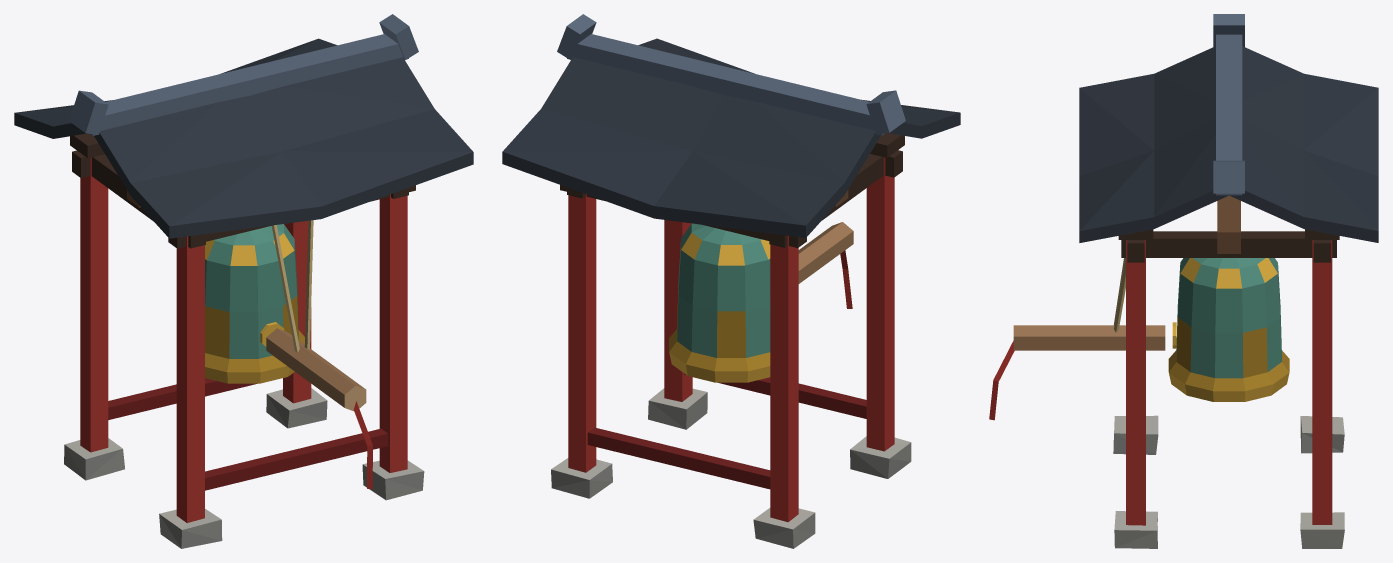
The model's file is temple_bell.fbx.
The picture shows the model from 3 angles, left to right: view 1: azimuth 30°, elevation 25°; view 2: azimuth 150°, elevation 25°; view 3: azimuth 270°, elevation 25°; orthographic projection. The views are drawn at different scales.
Visible parts, largest first — view 1: temple_bell; view 2: temple_bell; view 3: temple_bell.
Boxes of the visible parts, x1=… form: temple_bell: x1=14, y1=14, x2=473, y2=548; temple_bell: x1=502, y1=14, x2=960, y2=548; temple_bell: x1=989, y1=14, x2=1378, y2=548.
Bounding box in the file's own units: 2.79 × 3.36 × 2.93.
